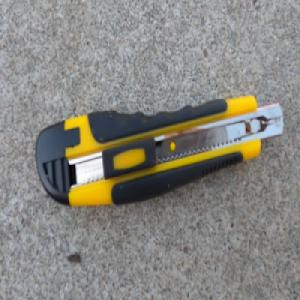Cutter: (34, 93, 284, 209)
